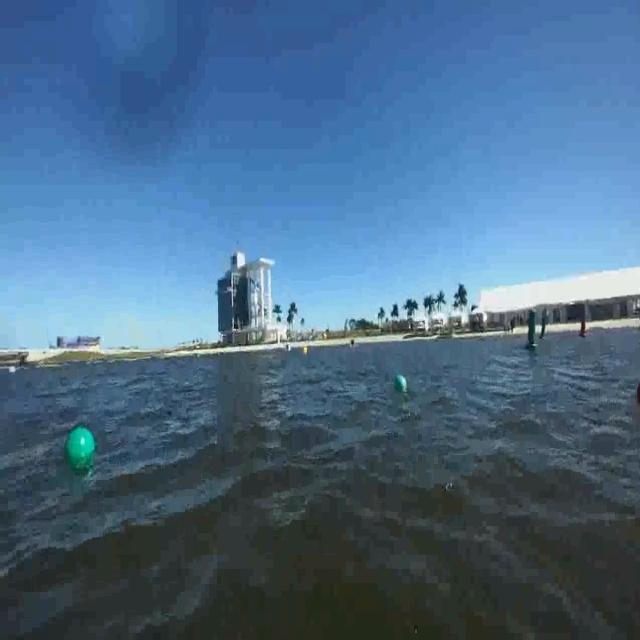green-buoy: (65, 428, 96, 470), (394, 376, 404, 391)
green-column-buoy: (527, 310, 542, 352)
red-column-buoy: (578, 318, 588, 340)
yellow-buoy: (304, 344, 310, 356)
